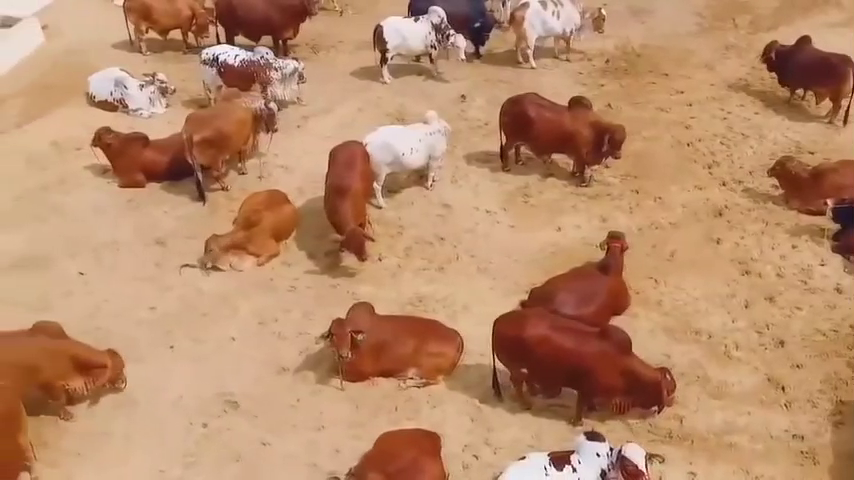bo: (478, 302, 681, 427), (488, 86, 635, 200), (316, 289, 466, 400), (3, 313, 128, 436), (521, 214, 648, 327), (353, 93, 453, 218), (181, 90, 286, 203), (186, 184, 296, 284), (313, 119, 386, 269), (478, 424, 664, 480), (748, 33, 854, 129), (190, 35, 314, 117), (363, 3, 474, 88), (505, 2, 623, 76), (83, 116, 186, 200), (335, 422, 463, 480), (405, 1, 500, 68), (766, 146, 854, 218), (112, 2, 221, 60), (205, 2, 331, 51), (79, 57, 172, 116), (812, 194, 851, 264)
